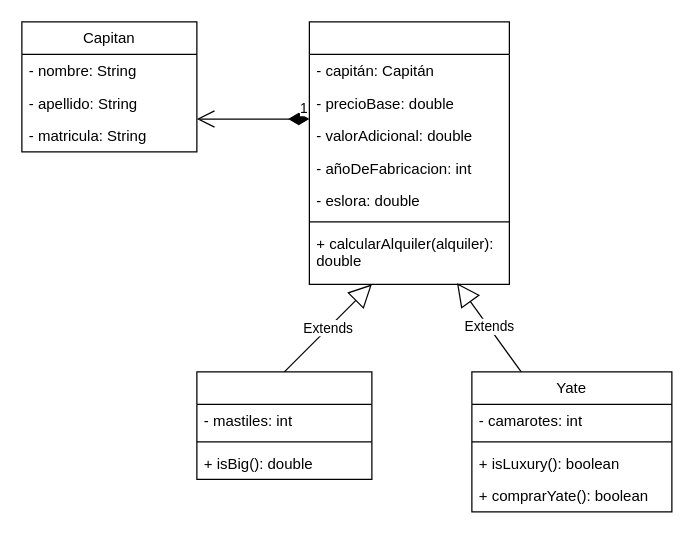
This 694x538 diagram has some shape labels left out. Each missing label, with the box of its shape:
Embarcacion: (308, 21, 509, 284)
Velero: (196, 371, 372, 479)
